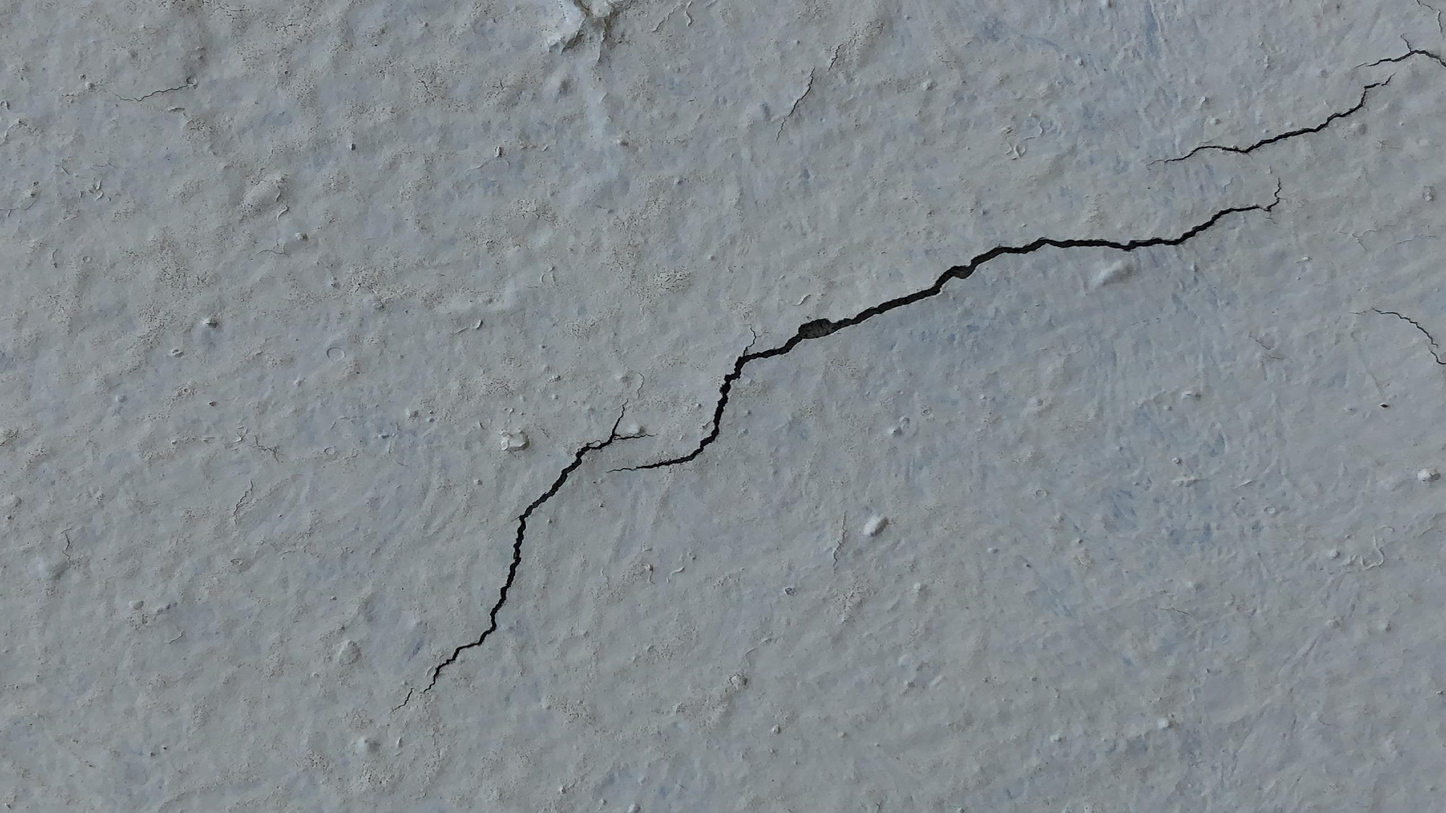crack: (615, 166, 1286, 472), (426, 408, 642, 690), (1165, 78, 1392, 165), (1367, 30, 1445, 67)
